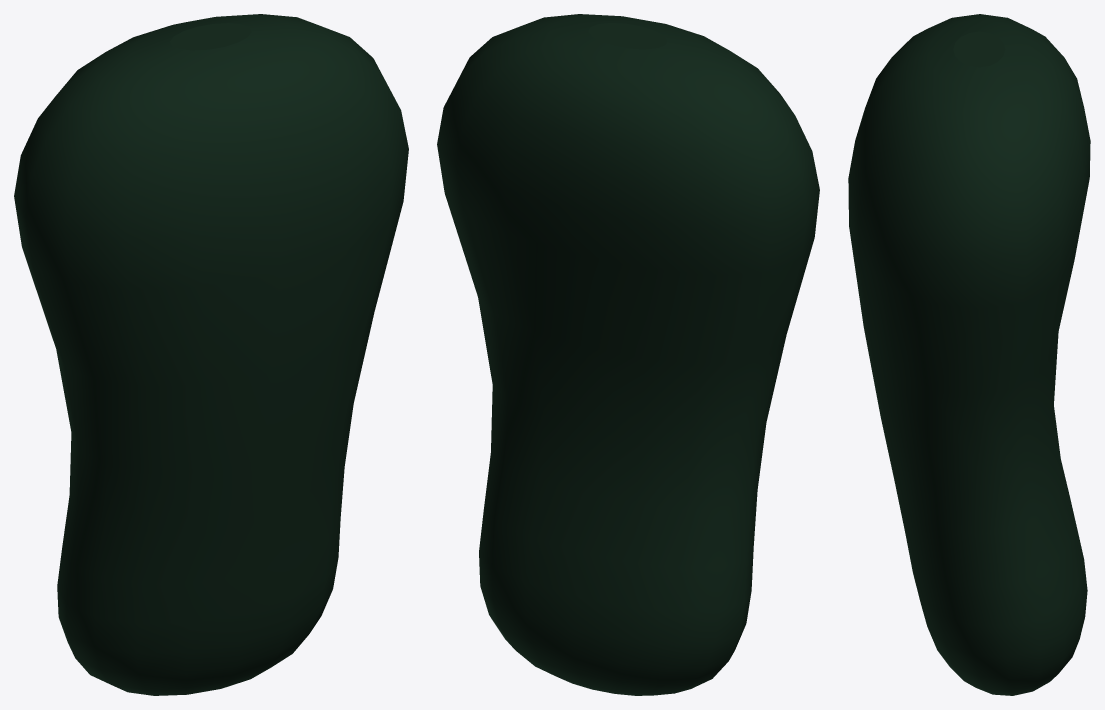
The model's file is Body.FBX.
The picture shows the model from 3 angles, left to right: view 1: azimuth 30°, elevation 25°; view 2: azimuth 150°, elevation 25°; view 3: azimuth 270°, elevation 25°; orthographic projection. The views are drawn at different scales.
Visible parts, largest first — view 1: Body; view 2: Body; view 3: Body.
Boxes of the visible parts, box(x1,y1,x2,y2) form: Body: box(14, 14, 408, 695); Body: box(437, 14, 819, 695); Body: box(848, 14, 1090, 695).
Bounding box in the file's own units: 23.2 × 39.25 × 13.83.
